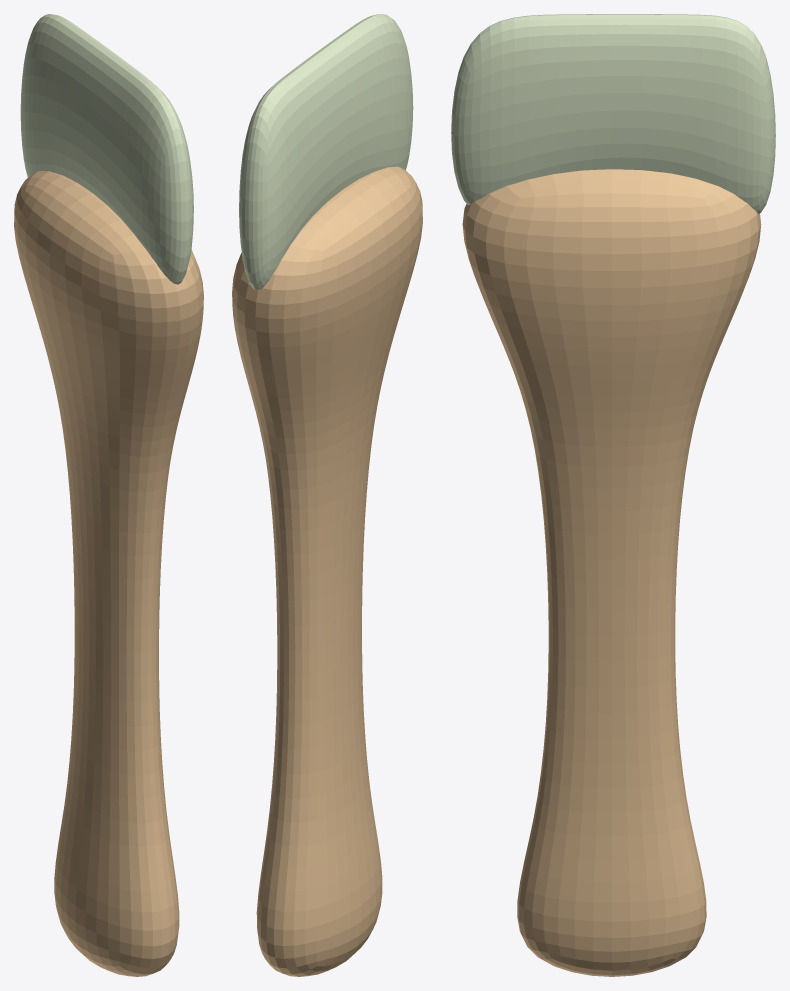
Rendered from Brush.fbx.
The picture shows the model from 3 angles, left to right: view 1: azimuth 30°, elevation 25°; view 2: azimuth 150°, elevation 25°; view 3: azimuth 270°, elevation 25°; orthographic projection. The views are drawn at different scales.
Parts seen in each view (by area): view 1: Cube, Cube.001; view 2: Cube, Cube.001; view 3: Cube, Cube.001.
Part boxes in pixels (x1,y1,x2,y2): Cube: [14, 171, 203, 976]; Cube.001: [20, 14, 193, 284]; Cube: [232, 166, 422, 976]; Cube.001: [239, 14, 413, 290]; Cube: [462, 169, 761, 976]; Cube.001: [451, 14, 775, 213].
Bounding box in the file's own units: 2.24 × 16.37 × 5.05.
